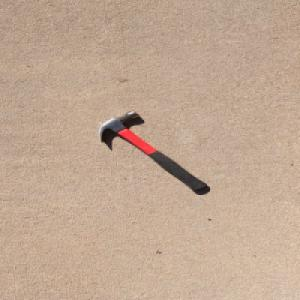Hammer: (97, 109, 209, 191)
